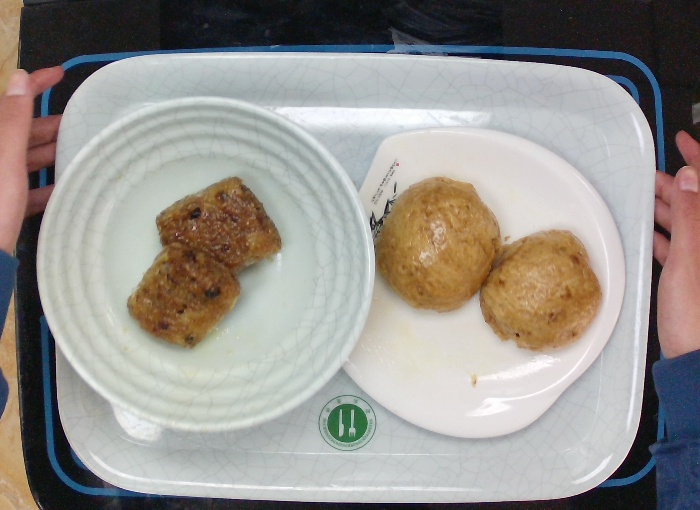JYsf-Da_Tang_Wan: (31, 91, 381, 438)
JYsf-Mian_Pan: (335, 122, 634, 447)
